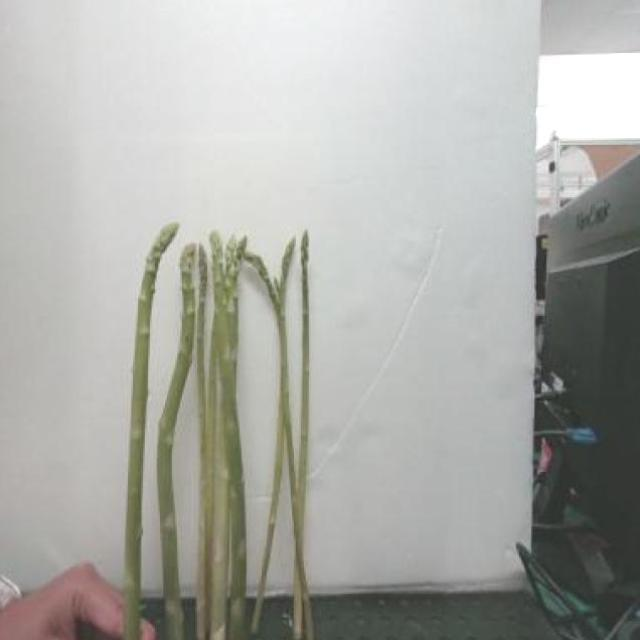aspargus: (237, 252, 317, 640), (125, 224, 181, 640), (155, 242, 199, 640)
